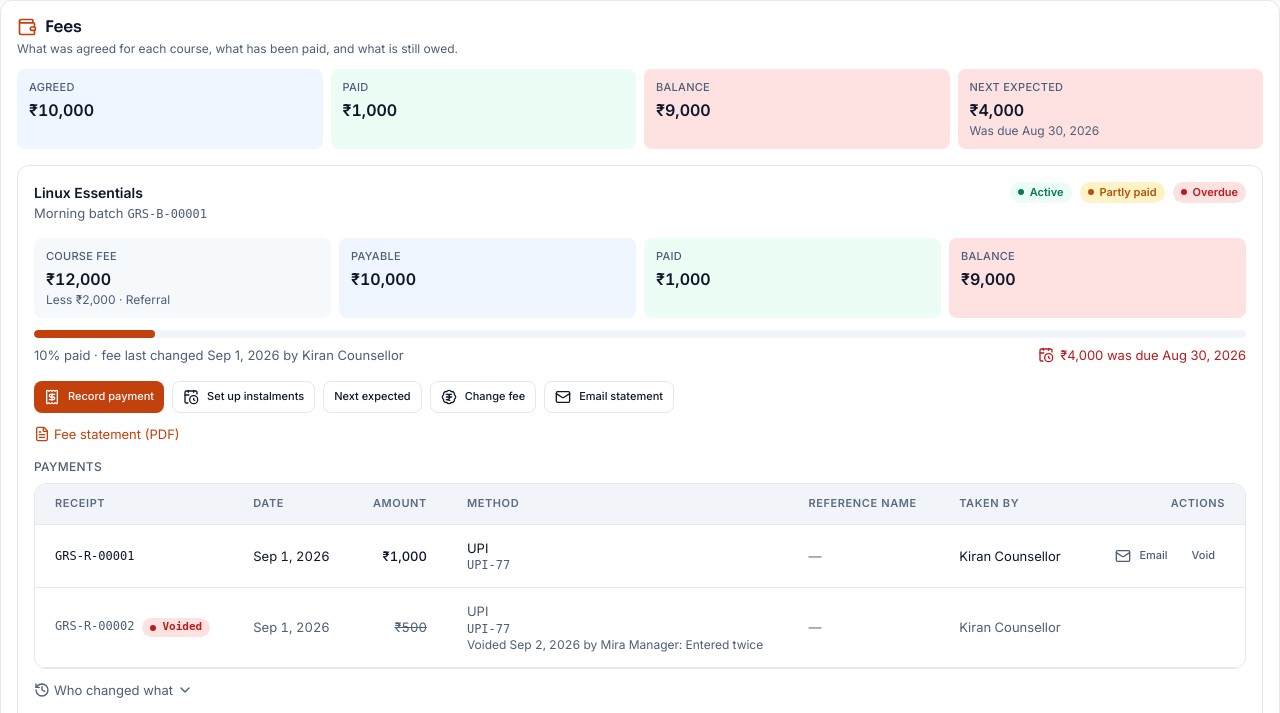
Test: FeeLedger › shows the field error the server sent back
The width and height of the screenshot is (1280, 713).
Click the button "Record payment": click(99, 397) [34,381,164,413]
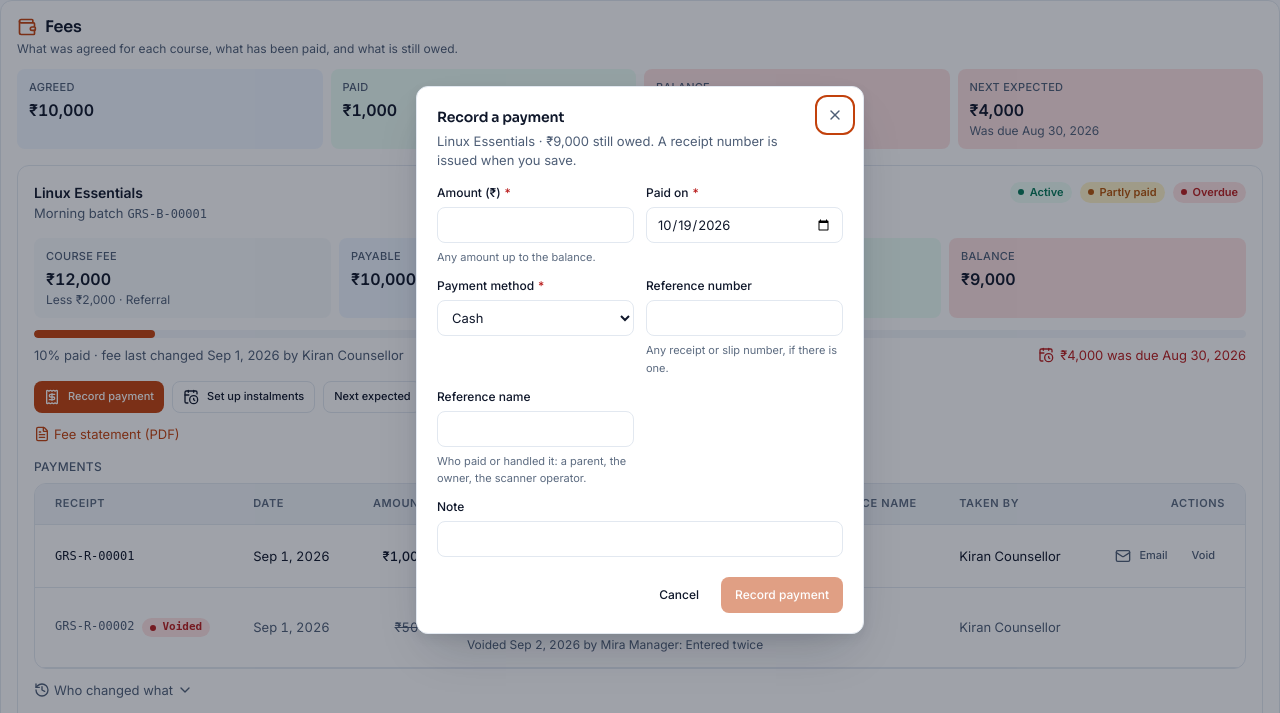
In the number field labelled "Amount (₹)*": (536, 225) [437,207,634,243], type "99999"
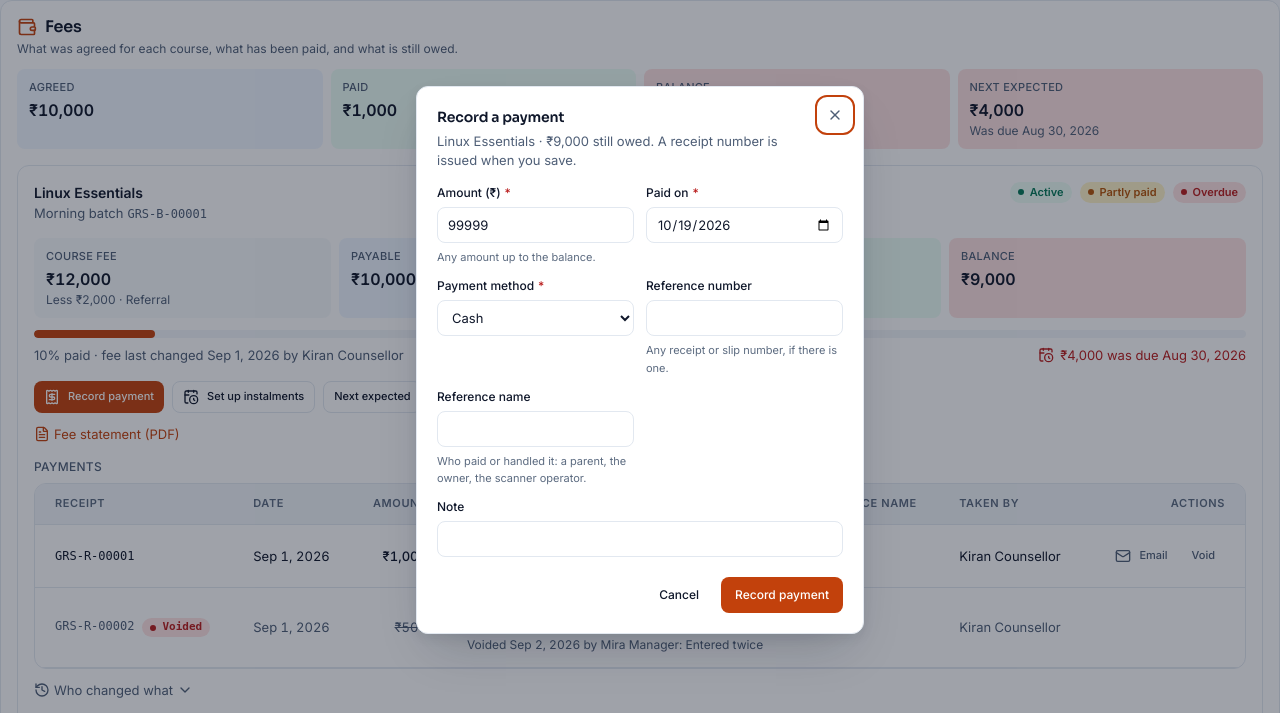
Click the button "Record payment": click(782, 595) [721,577,843,613]
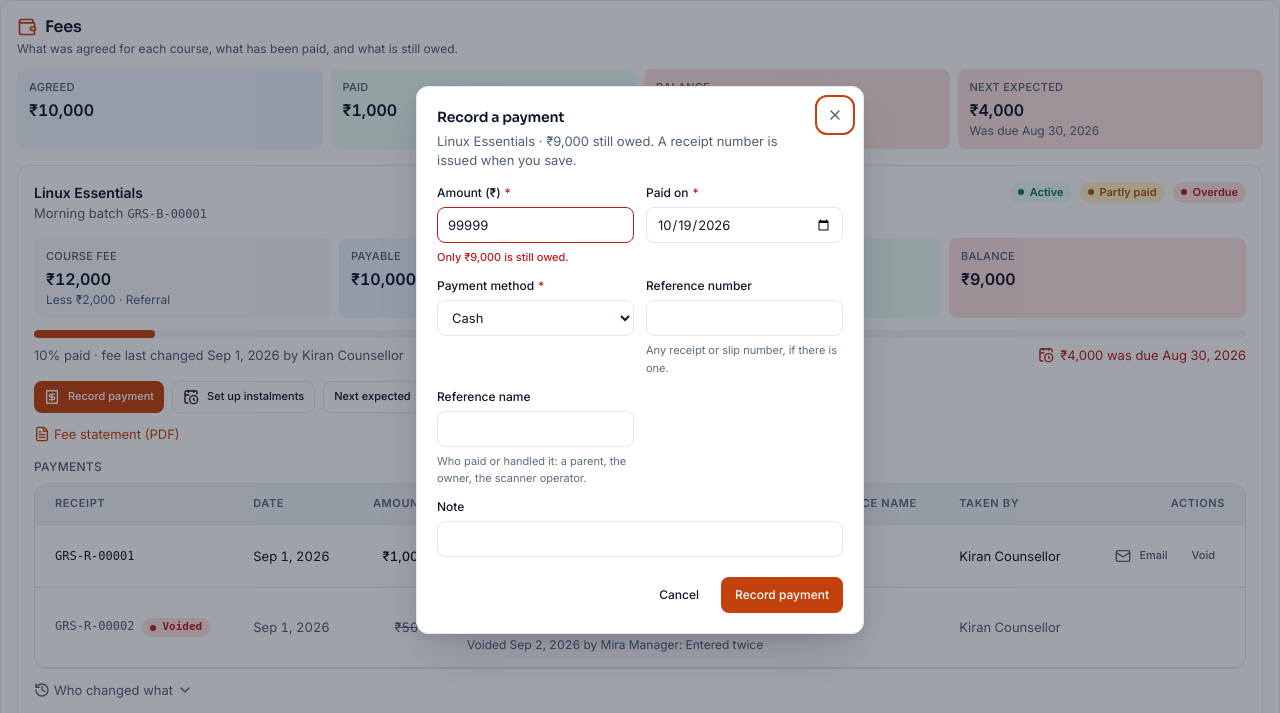
Expected: the text "Only ₹9,000 is still owed." is shown, [437,250,569,264]
